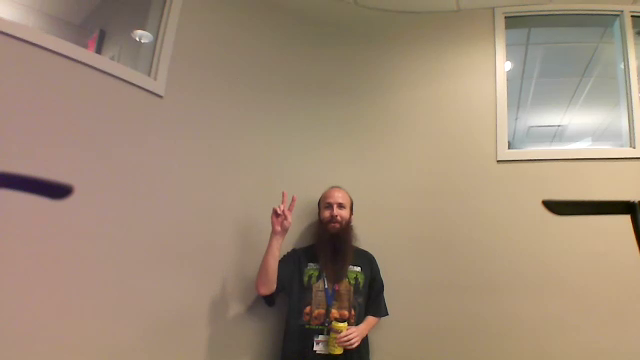peace: (262, 186, 301, 239)
